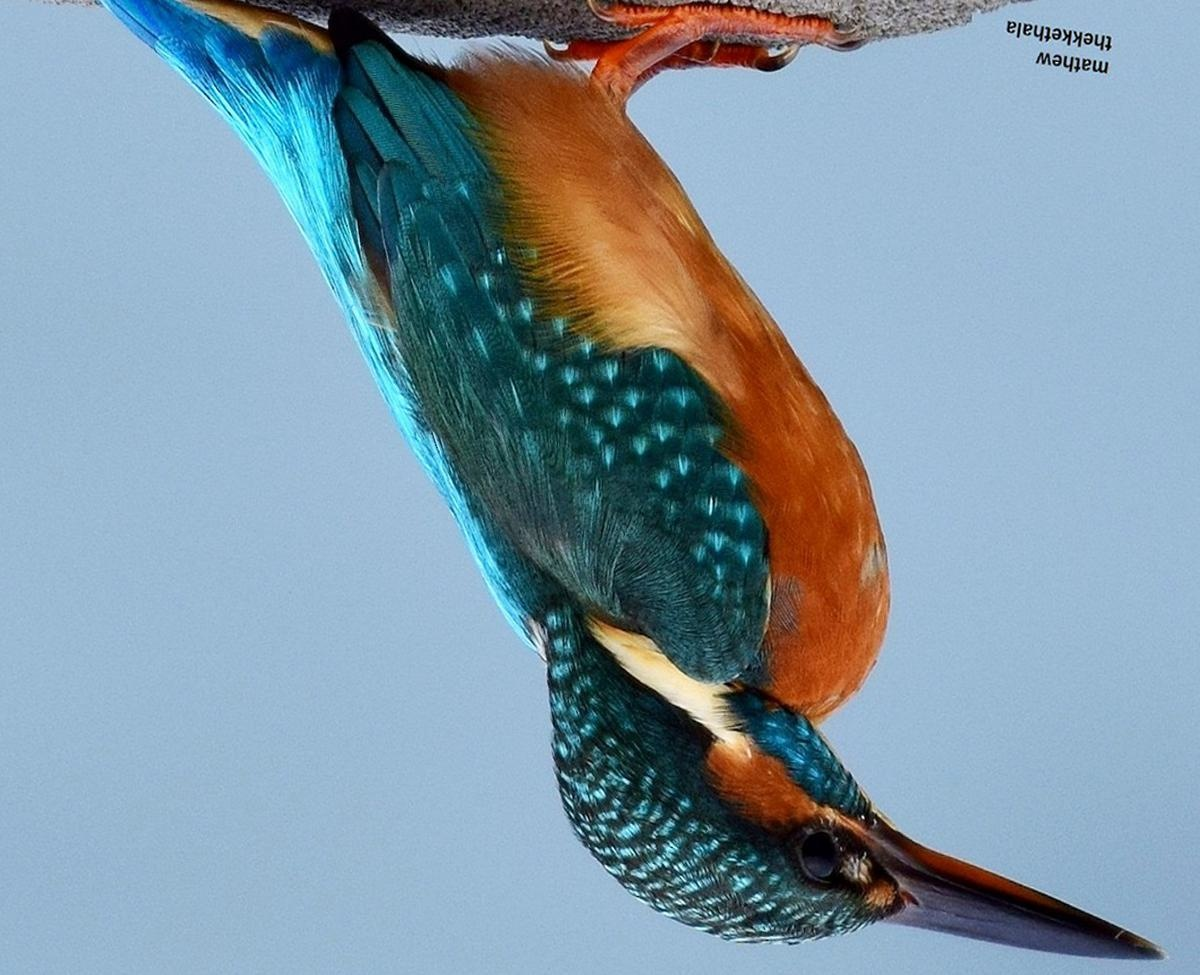kingfisher: (84, 1, 1177, 968)
